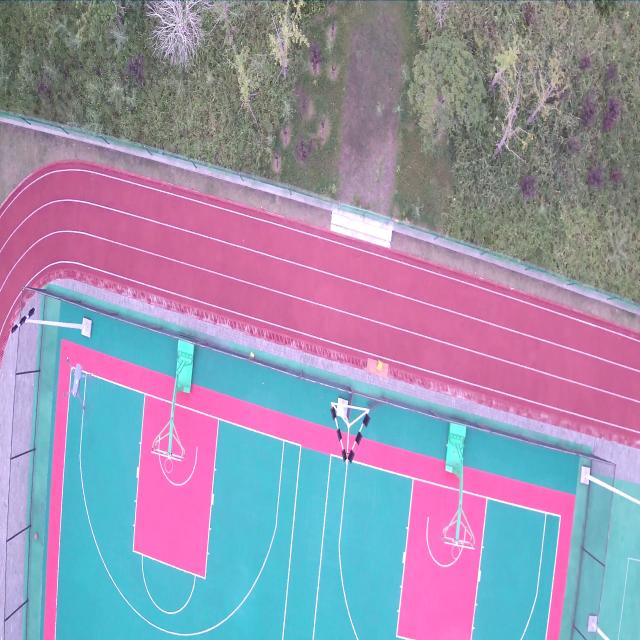UAV: (63, 354, 94, 412)
